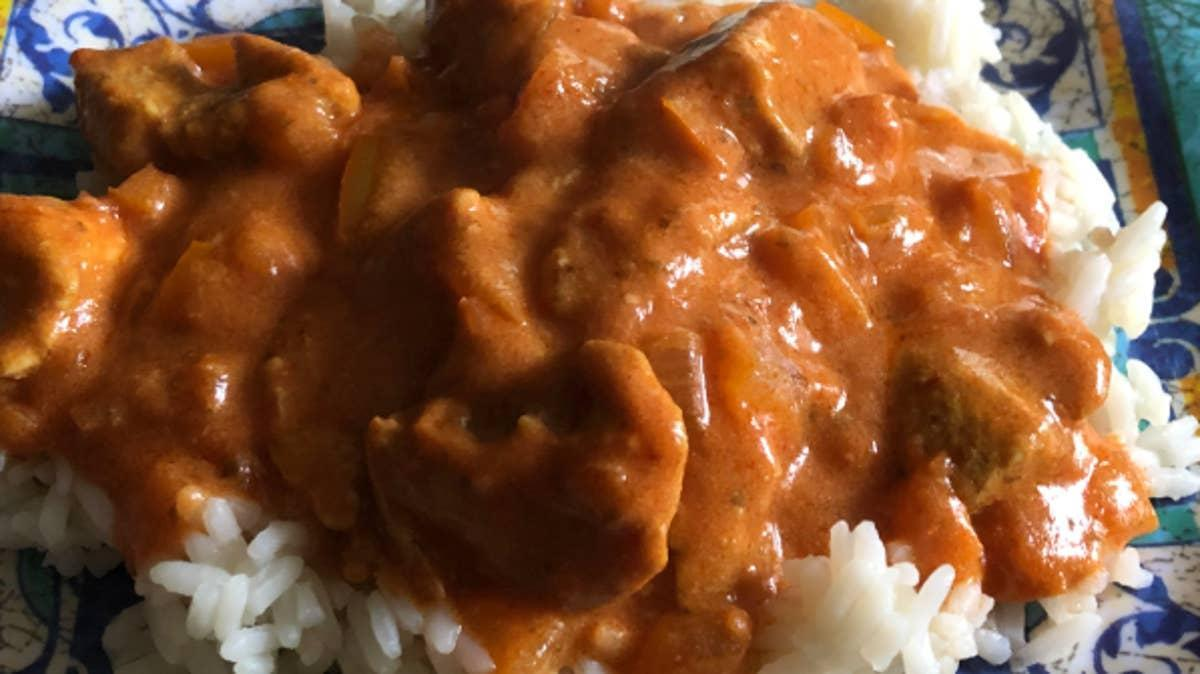chicken: (26, 1, 1142, 620)
